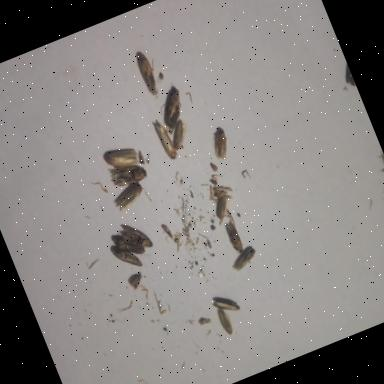pbw: (152, 84, 194, 136), (132, 46, 166, 96), (117, 216, 156, 258), (108, 178, 150, 214), (110, 226, 148, 264), (102, 142, 144, 176), (151, 116, 180, 162), (110, 238, 143, 274), (208, 190, 240, 226), (109, 162, 150, 190), (164, 118, 194, 154), (205, 125, 234, 161), (227, 244, 261, 274), (223, 220, 246, 256), (212, 292, 242, 318), (216, 310, 236, 338)
